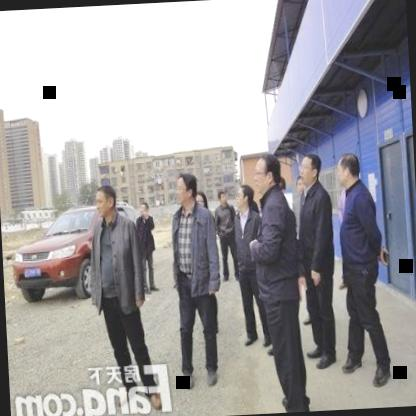head: (245, 147, 280, 195), (336, 148, 364, 190), (91, 179, 119, 220), (176, 170, 200, 210), (296, 152, 320, 186), (230, 182, 257, 212), (136, 197, 152, 220), (215, 188, 229, 206)
